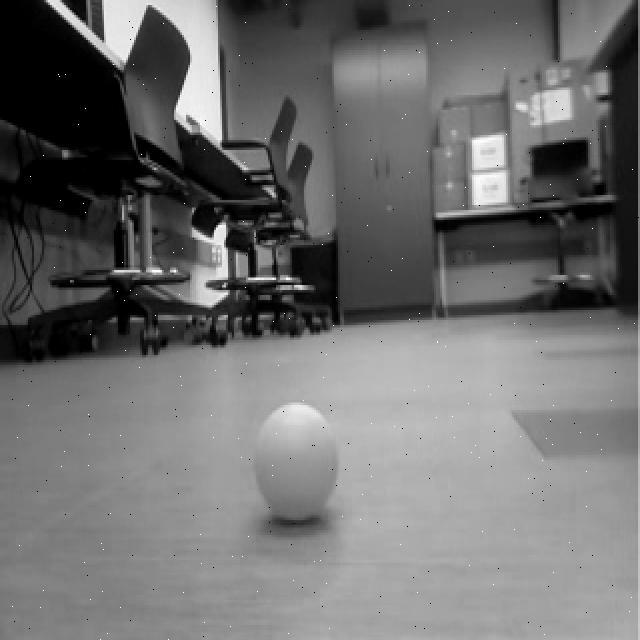ping-pong-ball: (244, 398, 348, 528)
